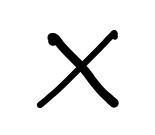mult: (37, 32, 121, 110)
